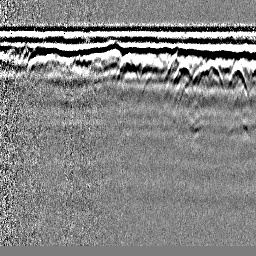cavity: (115, 51, 140, 83)
